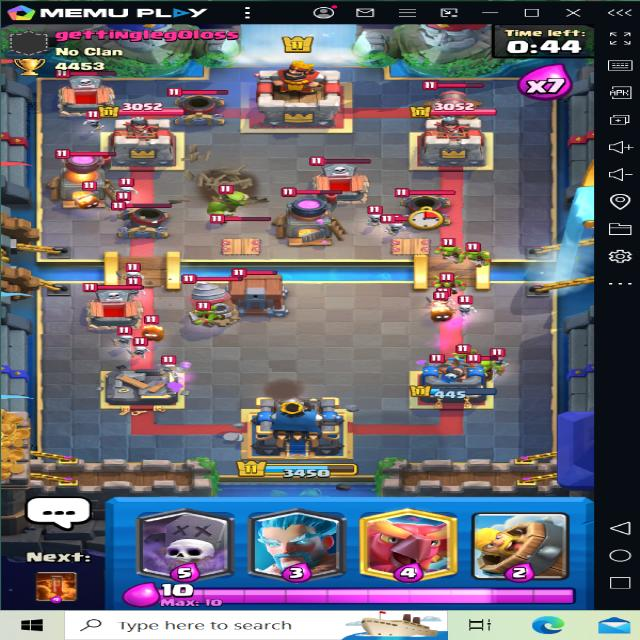brawler: (197, 185, 255, 222)
cannon: (417, 78, 485, 128)
fire-spirit: (132, 319, 168, 342), (77, 180, 101, 212), (428, 301, 457, 327)
furnace: (269, 186, 356, 244), (45, 150, 116, 202)
goblin: (430, 238, 464, 268), (468, 358, 504, 381), (461, 244, 496, 267), (437, 273, 465, 294)
goblin-cage: (218, 262, 290, 316)
goblin-drill: (171, 272, 243, 327)
mortar: (106, 195, 174, 243), (390, 184, 458, 228), (166, 84, 230, 126)
skeleton: (112, 179, 142, 199), (486, 345, 515, 364), (122, 263, 154, 280), (362, 204, 384, 228), (152, 352, 178, 372), (77, 115, 110, 130), (125, 340, 153, 355), (457, 300, 479, 317), (106, 332, 130, 346)
tesla-closed: (209, 212, 277, 256), (380, 213, 444, 257)
tombstone: (76, 281, 152, 327), (56, 70, 128, 117), (308, 153, 376, 200)
